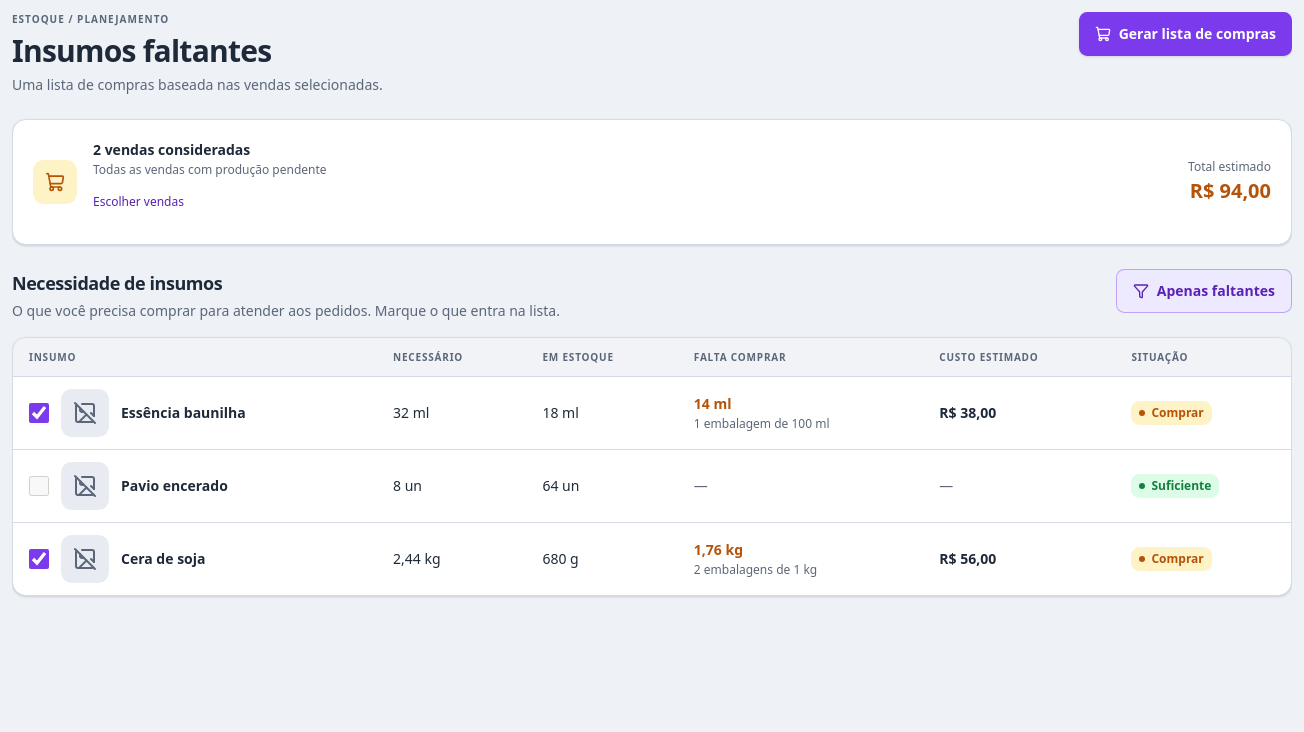
Test: the filter "apenas faltantes" › leaves only what still has to be bought, and brings the rest back when it is off
The width and height of the screenshot is (1304, 732).
Expected: the table named "Necessidade de insumos" is shown, [13,338,1291,595]
Expected: the checkbox labelled "Pavio encerado" is shown, [29,476,49,496]
Click the button "Apenas faltantes": (1204, 291) [1116,269,1292,313]
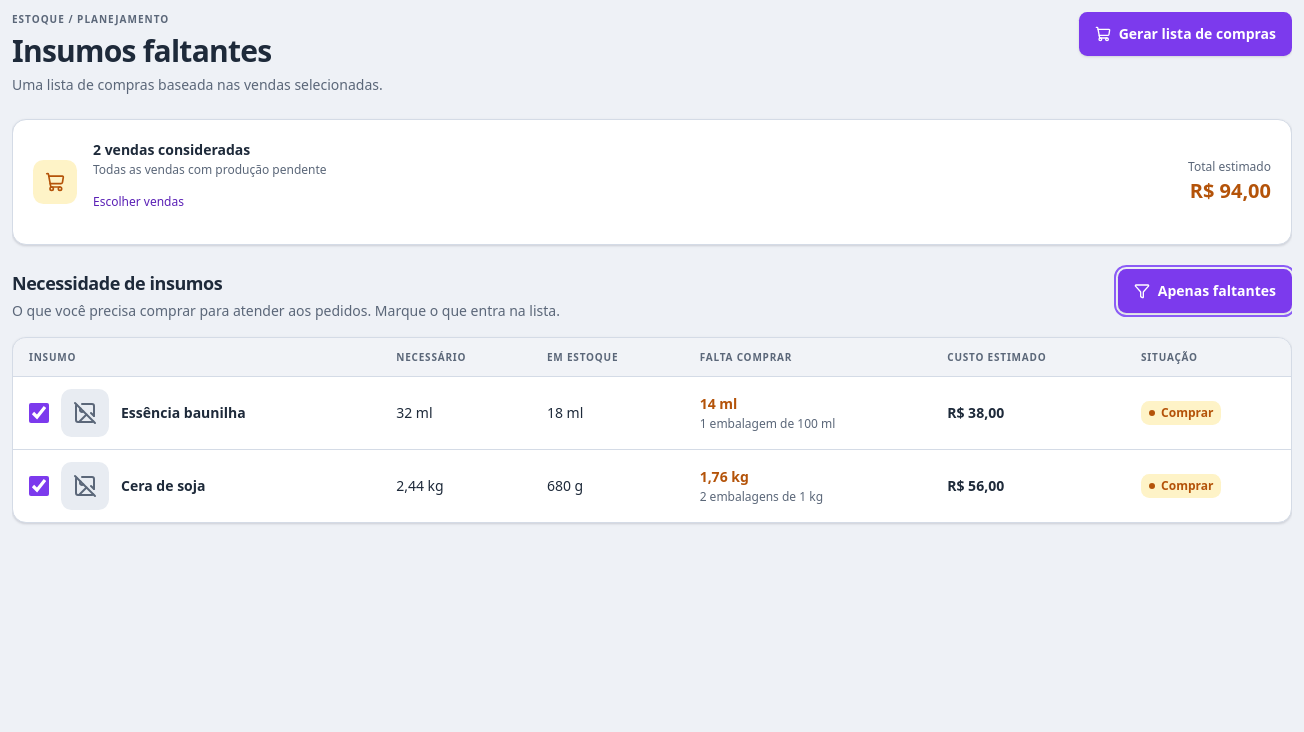
Expected: the checkbox labelled "Cera de soja" is shown, [29,476,49,496]
Result: the text "Pavio encerado" is gone
Click the button "Apenas faltantes": (1205, 291) [1118,269,1292,313]
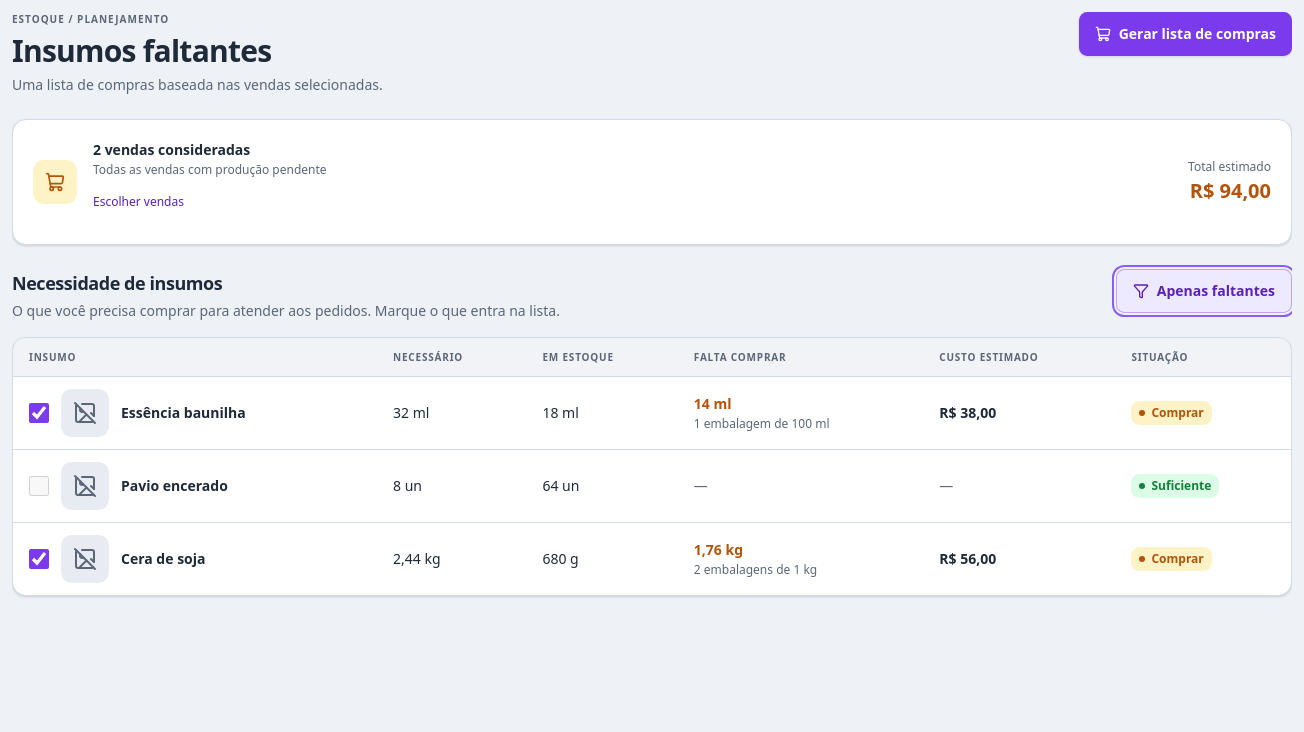
Result: the checkbox labelled "Pavio encerado" is shown at [29,476,49,496]
